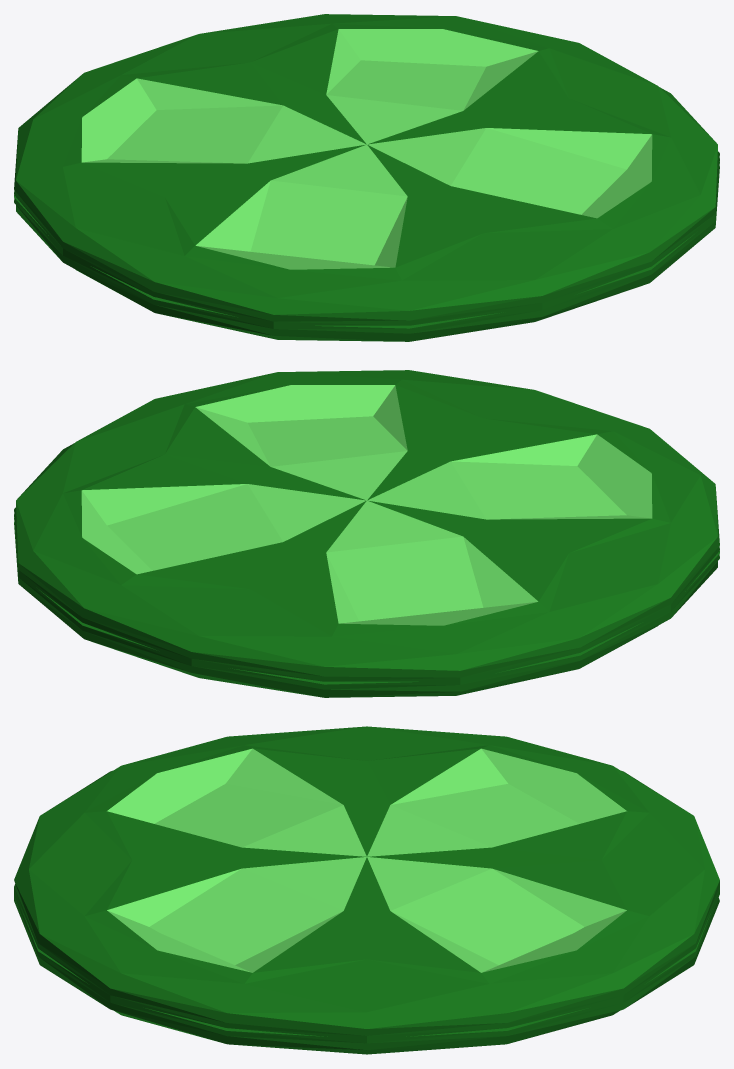
File: pepino.fbx
3 renders of one model, top to bottom at view 1: azimuth 30°, elevation 25°; view 2: azimuth 150°, elevation 25°; view 3: azimuth 270°, elevation 25°, orthographic.
Visible parts, largest first — view 1: Pepinillo; view 2: Pepinillo; view 3: Pepinillo.
Boxes of the visible parts, left/top/right/bottom form: Pepinillo: left=14, top=14, right=719, bottom=341; Pepinillo: left=14, top=370, right=719, bottom=697; Pepinillo: left=14, top=726, right=719, bottom=1054.
Size of the model in its own units: 0.4027 by 0.0423 by 0.4027.
